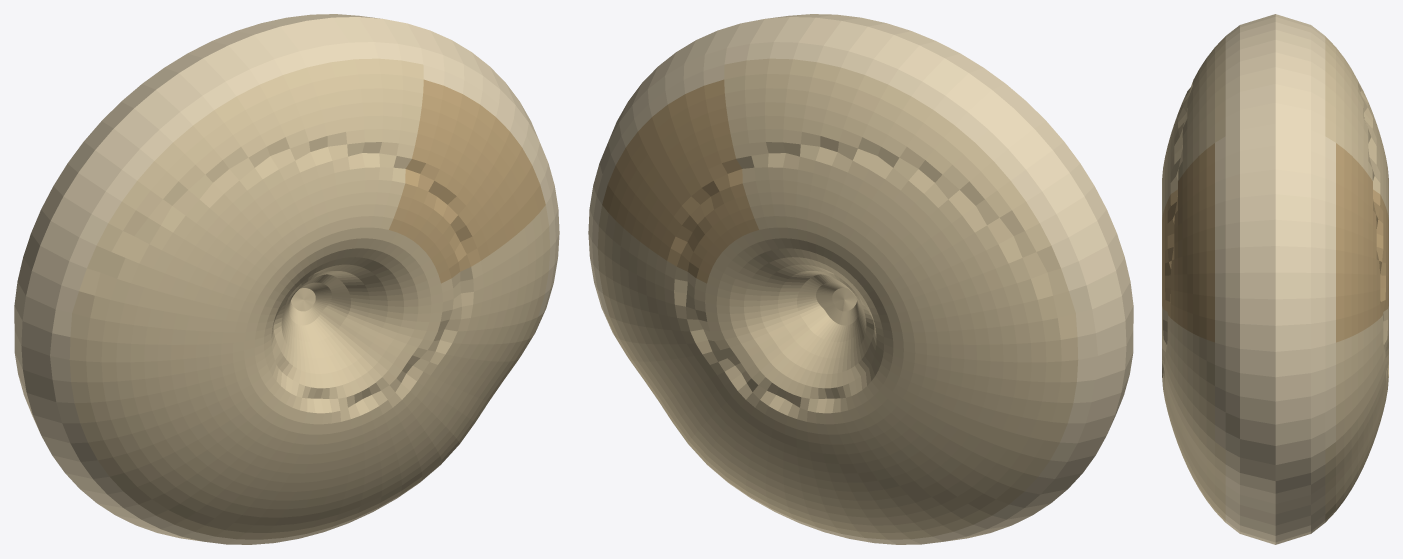
File: aturia.glb
3 renders of one model, left to right at view 1: azimuth 30°, elevation 25°; view 2: azimuth 150°, elevation 25°; view 3: azimuth 270°, elevation 25°, orthographic. The views are drawn at different scales.
Visible parts, largest first — view 1: inflated-involute-fossil-shell; view 2: inflated-involute-fossil-shell; view 3: inflated-involute-fossil-shell.
Boxes of the visible parts, x1,y1,x2,y2 form: inflated-involute-fossil-shell: [14, 14, 559, 544]; inflated-involute-fossil-shell: [588, 14, 1133, 544]; inflated-involute-fossil-shell: [1162, 14, 1388, 544].
Size of the model in its own units: 0.24 by 0.22 by 0.0955.
